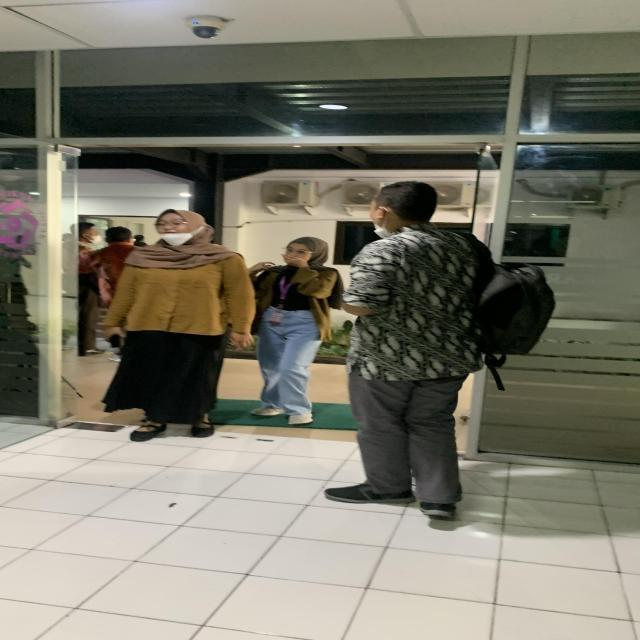hairnet: (364, 206, 435, 238), (147, 221, 201, 249)
